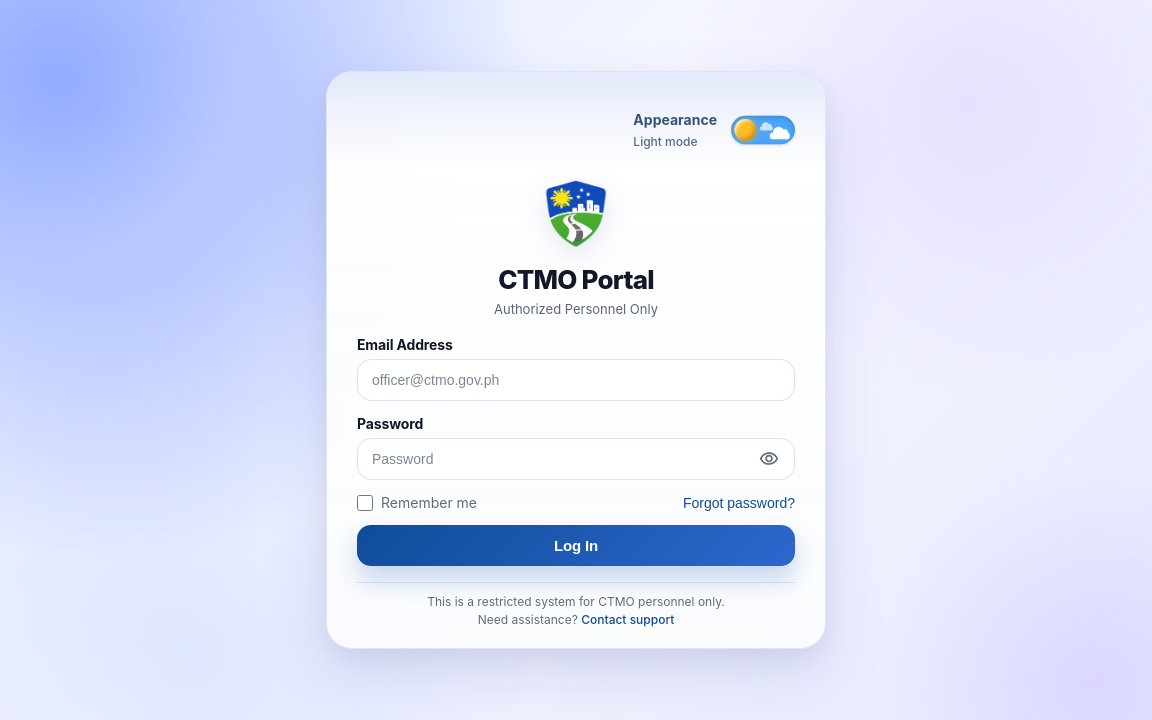
Test: login explains when the CTMO server is unreachable
Type "officer@example.com" into the field labelled "Email Address".
click(576, 380); type("officer@example.com")  # box [357,359,795,401]
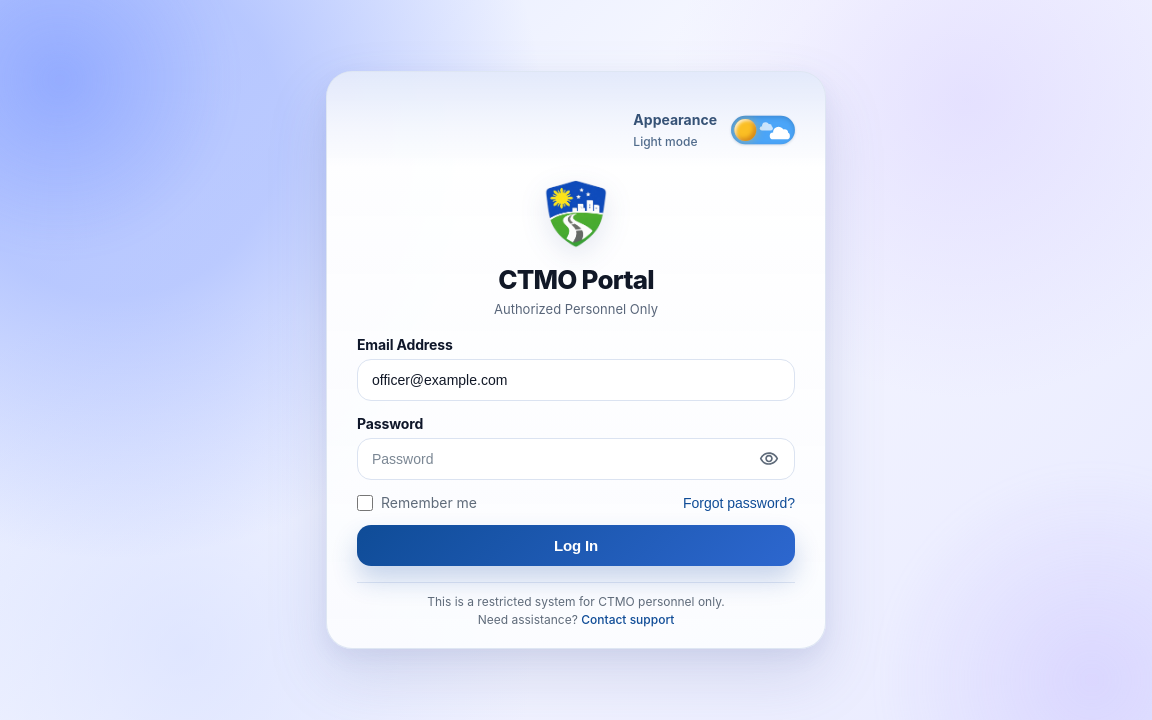
Type "test-password" into the password field labelled "Password".
click(576, 459); type("test-password")  # box [357,438,795,480]
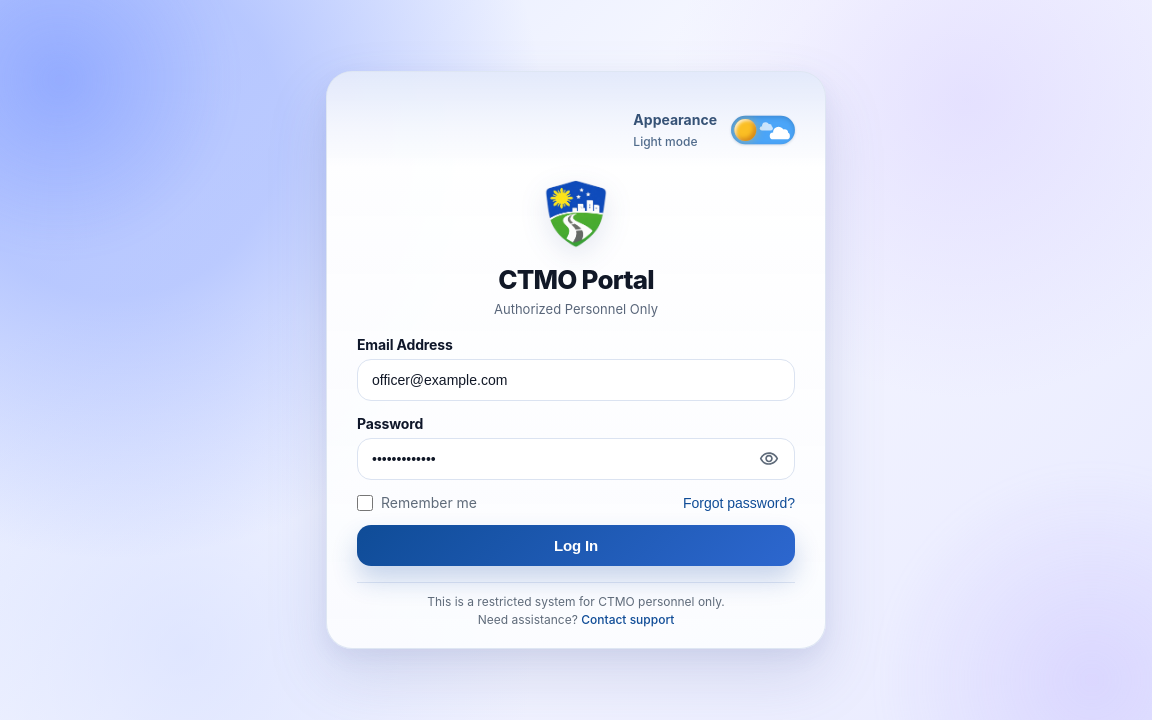
Click the button "Log In".
click(576, 546)  # box [357,525,795,566]
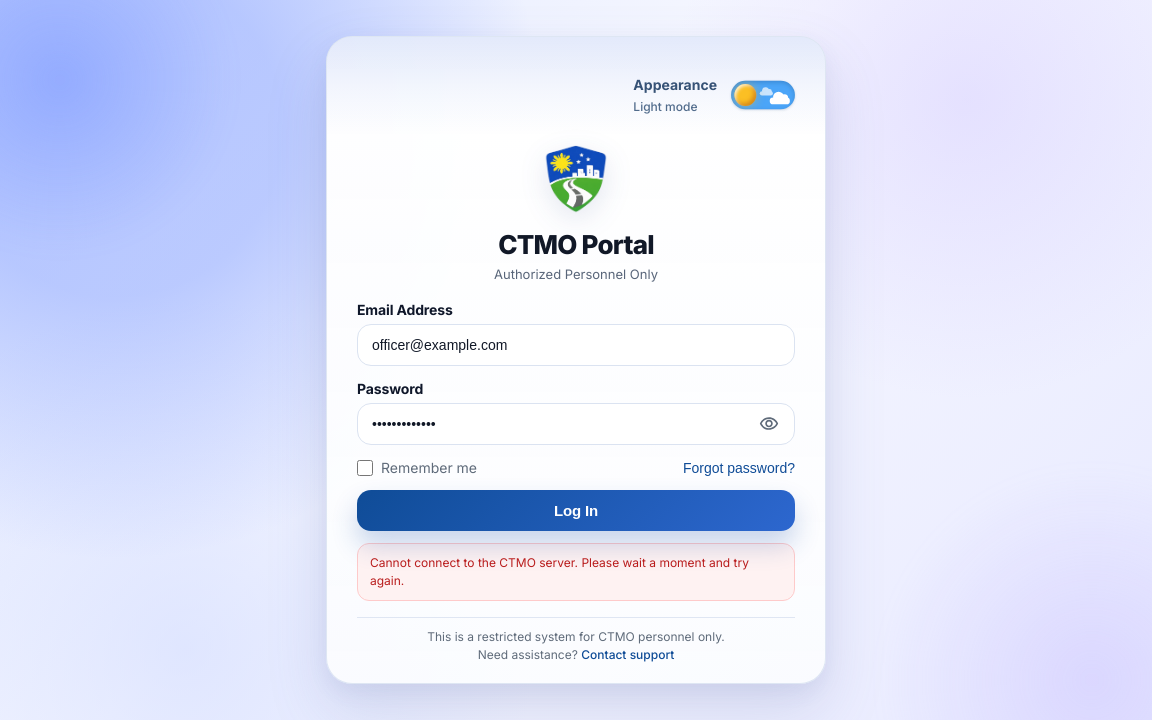
Check: the text "Cannot connect to the CTMO server. Please wait a moment and try again." is shown, box [357,543,795,601]
